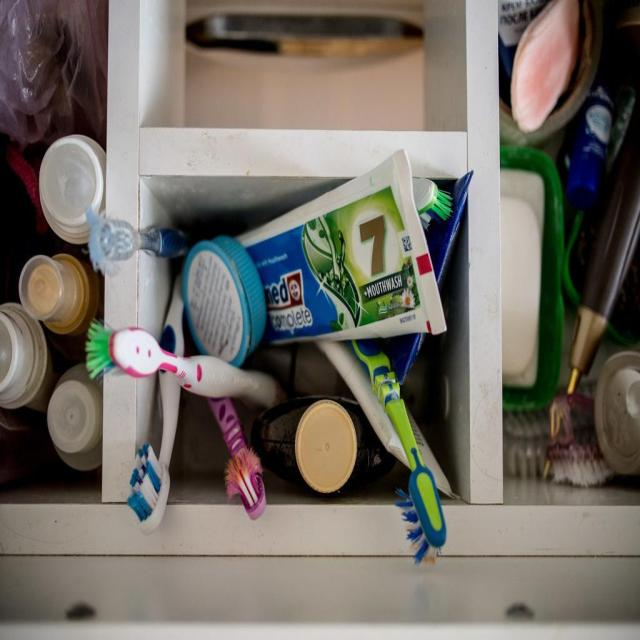Toothpaste: (236, 149, 450, 345)
